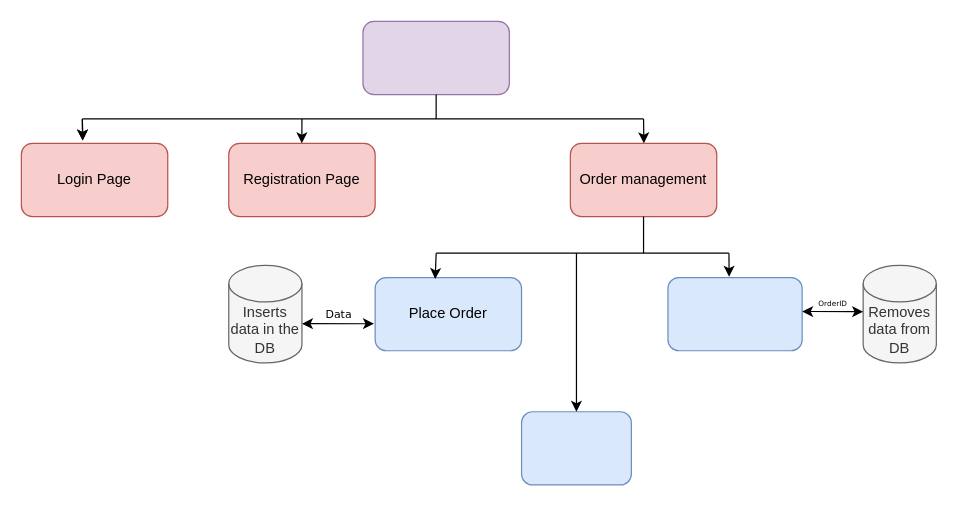
Some shapes in this 958 by 506 pixel diagram are drawn without their labels. Each missing label, with the box of its shape:
Cancel Order: (667, 276, 802, 351)
Order management system: (362, 20, 509, 95)
Track Order: (520, 411, 631, 485)
